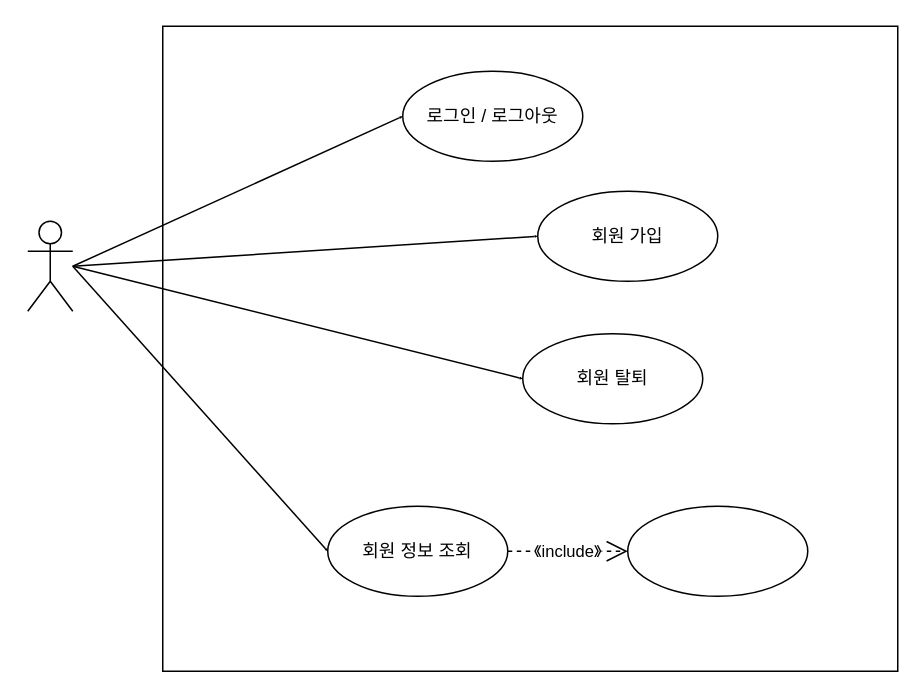
Image size: 924x698. Some labels were removed from this diagram. Each missing label, with the centre of its shape:
사용자: [49,265]
회원 정보 수정: [717,550]
